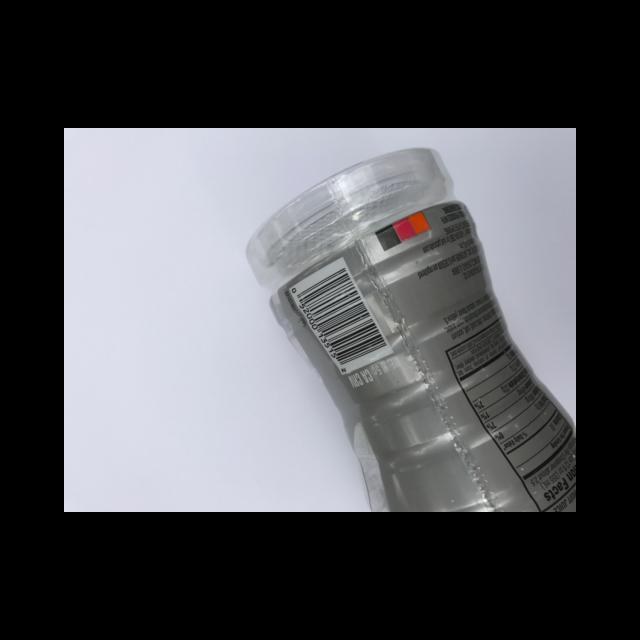plastic: (244, 146, 575, 511), (269, 200, 575, 511)
